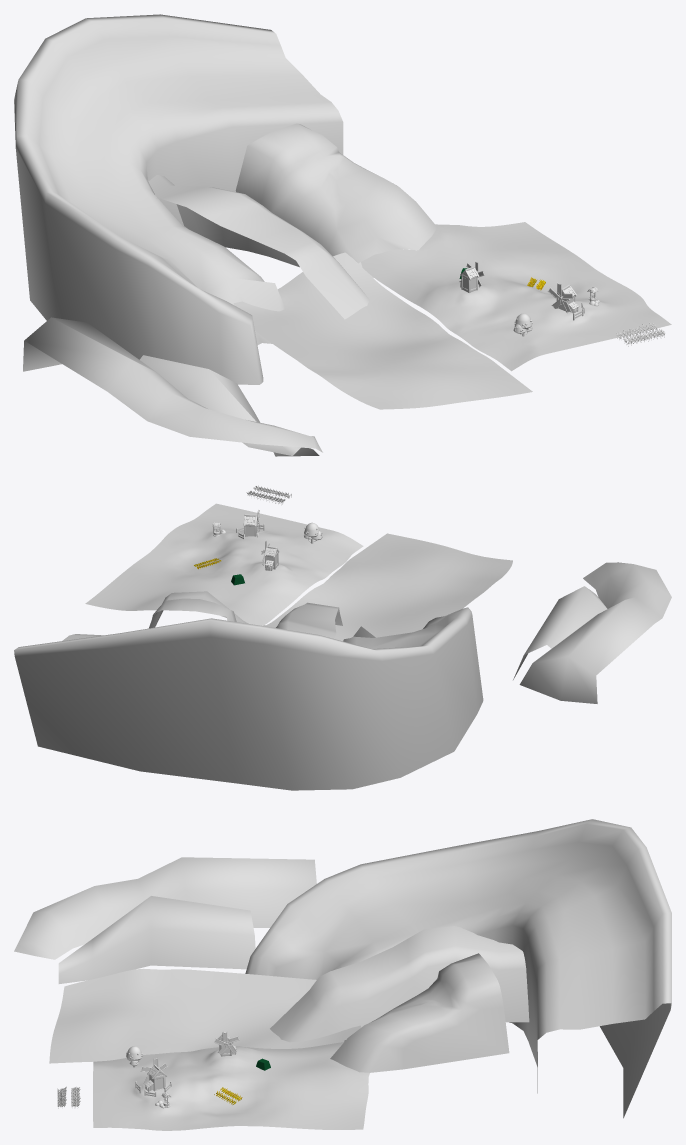
File: assests 1.fbx
The picture shows the model from 3 angles, top to bottom: view 1: azimuth 30°, elevation 25°; view 2: azimuth 150°, elevation 25°; view 3: azimuth 270°, elevation 25°; orthographic projection. The views are drawn at different scales.
Parts seen in each view (by area): view 1: terrain_3, terrain_1, terrain_6, terrain_5, terrain_4, terrain_2, terrain_4.001; view 2: terrain_3, terrain_1, terrain_6, terrain_4, terrain_4.001, terrain_2, terrain_5; view 3: terrain_3, terrain_1, terrain_6, terrain_4, terrain_2, terrain_5, terrain_4.001, house_5.
Boxes of the visible parts, x1=… form: terrain_3: x1=14, y1=14, x2=343, y2=384; terrain_1: x1=361, y1=222, x2=671, y2=371; terrain_6: x1=233, y1=252, x2=532, y2=409; terrain_5: x1=235, y1=123, x2=437, y2=263; terrain_4: x1=23, y1=317, x2=322, y2=452; terrain_2: x1=148, y1=175, x2=369, y2=319; terrain_4.001: x1=139, y1=355, x2=319, y2=456; terrain_3: x1=14, y1=607, x2=483, y2=790; terrain_1: x1=85, y1=503, x2=363, y2=625; terrain_6: x1=263, y1=533, x2=512, y2=641; terrain_4: x1=519, y1=562, x2=671, y2=703; terrain_4.001: x1=513, y1=586, x2=607, y2=679; terrain_2: x1=276, y1=602, x2=342, y2=638; terrain_5: x1=148, y1=591, x2=248, y2=628; terrain_3: x1=245, y1=819, x2=671, y2=1118; terrain_1: x1=93, y1=1042, x2=369, y2=1130; terrain_6: x1=49, y1=968, x2=360, y2=1063; terrain_4: x1=14, y1=857, x2=316, y2=959; terrain_2: x1=270, y1=926, x2=529, y2=1042; terrain_5: x1=330, y1=953, x2=509, y2=1072; terrain_4.001: x1=58, y1=896, x2=255, y2=983; house_5: x1=140, y1=1058, x2=167, y2=1091.
Bounding box in the file's own units: 189 × 65.36 × 215.
